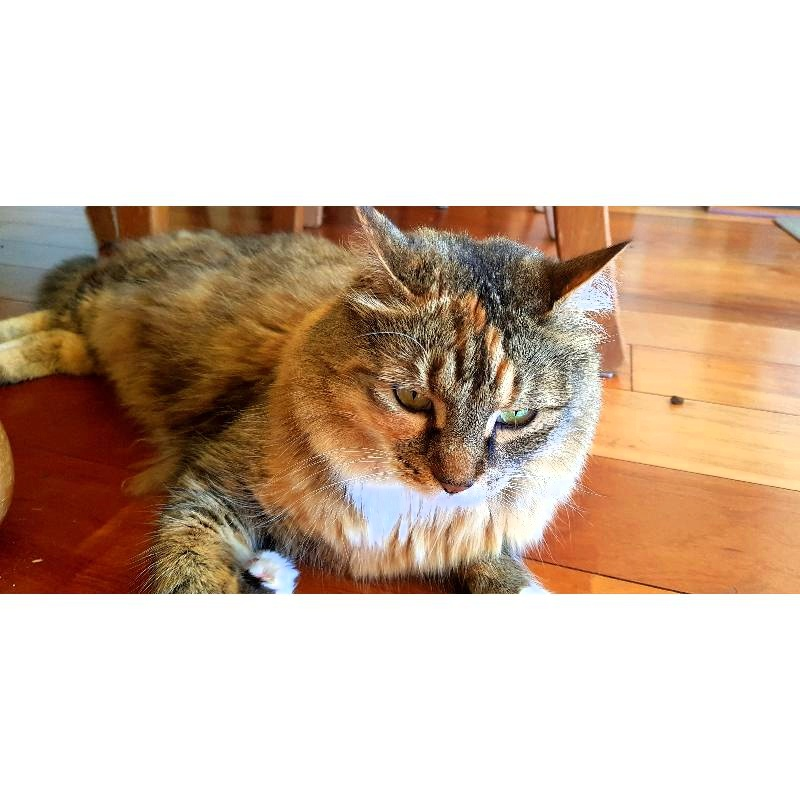yellow: (1, 206, 636, 594)
